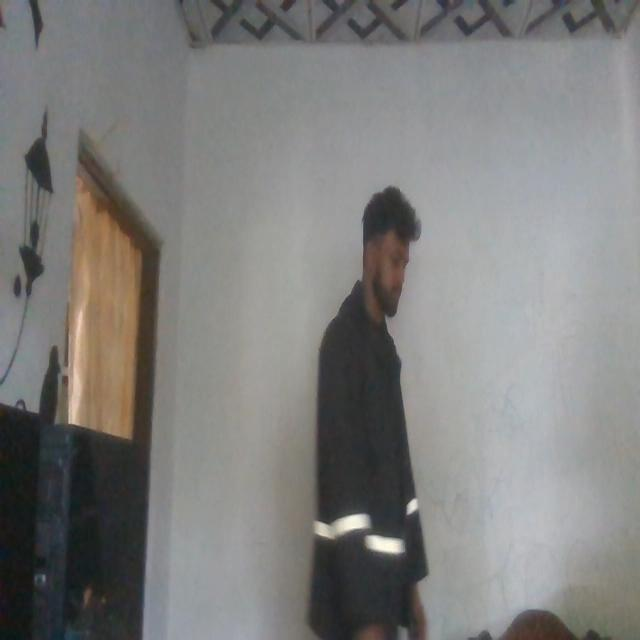Jacket_Wearer: (300, 265, 430, 612)
Person: (298, 177, 444, 640)
